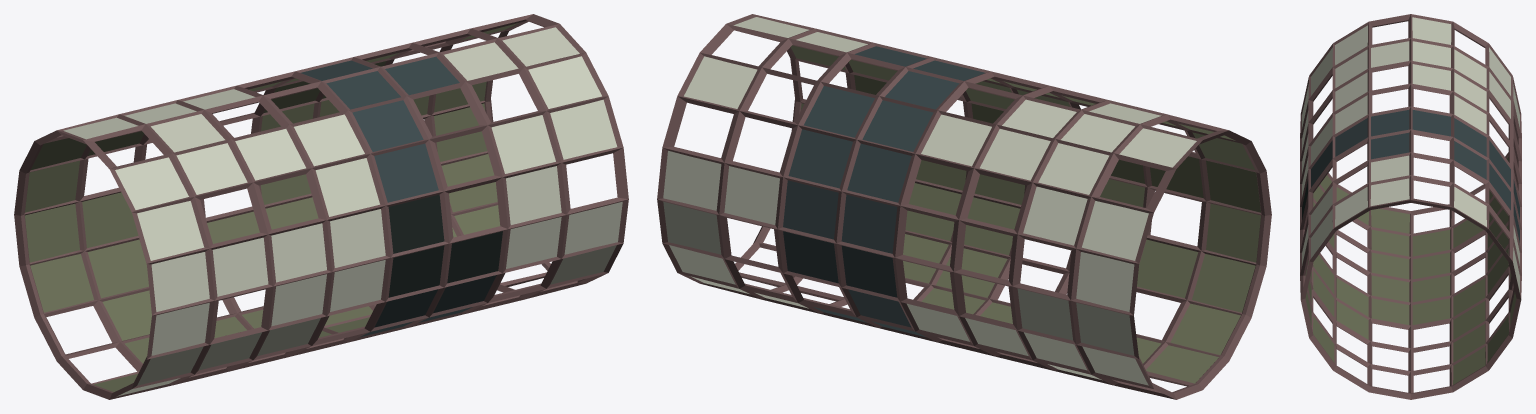
File: ruinedshipyard2.gltf
The picture shows the model from 3 angles, left to right: view 1: azimuth 30°, elevation 25°; view 2: azimuth 150°, elevation 25°; view 3: azimuth 270°, elevation 25°; orthographic projection. The views are drawn at different scales.
Visible parts, largest first — view 1: Cylinder; view 2: Cylinder; view 3: Cylinder.
Boxes of the visible parts, left/top/right/bottom form: Cylinder: left=14, top=14, right=628, bottom=399; Cylinder: left=657, top=14, right=1271, bottom=399; Cylinder: left=1300, top=14, right=1521, bottom=399.
Size of the model in its own units: 4.07 by 2.05 by 2.05.
Materials: 1 (1 with a texture image).
